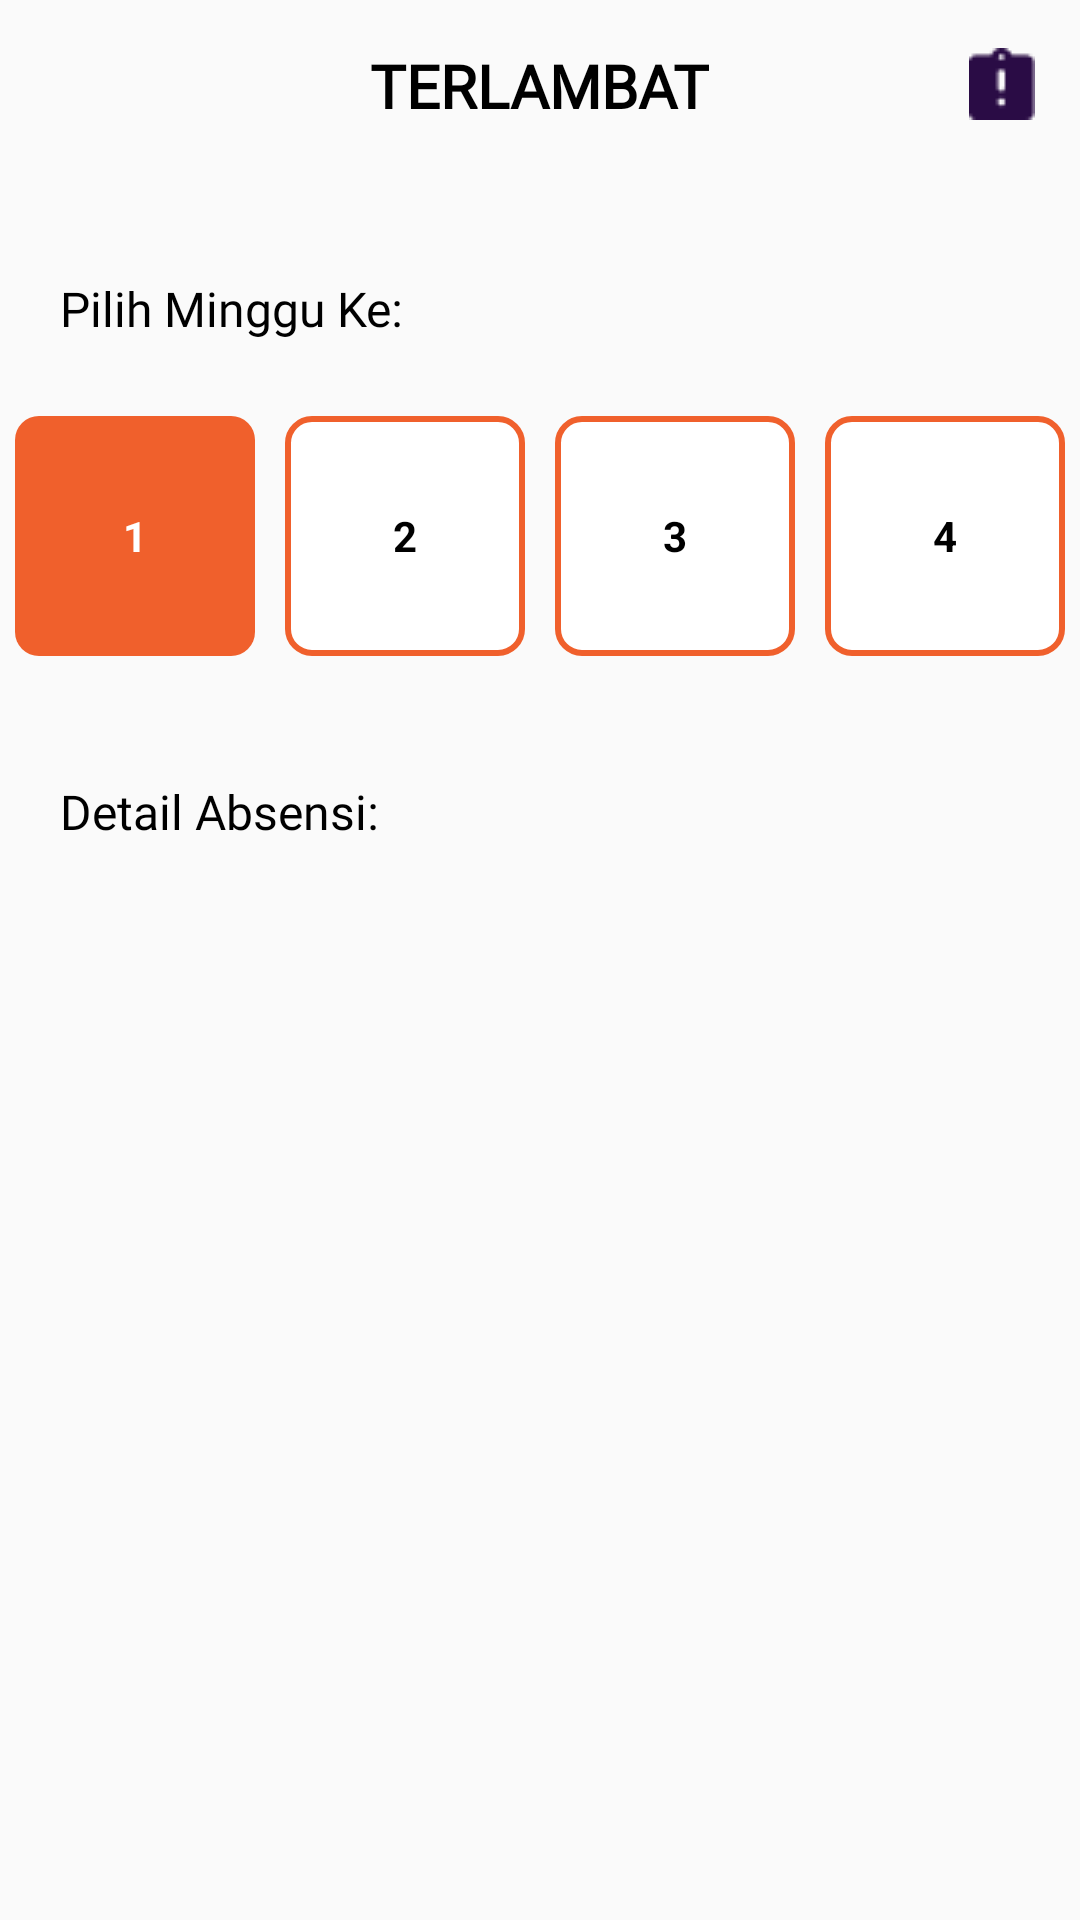

Screen size 1080x1920. Icon name, then its center in pixels as [x,y]:
terlambat: [1002,84]
